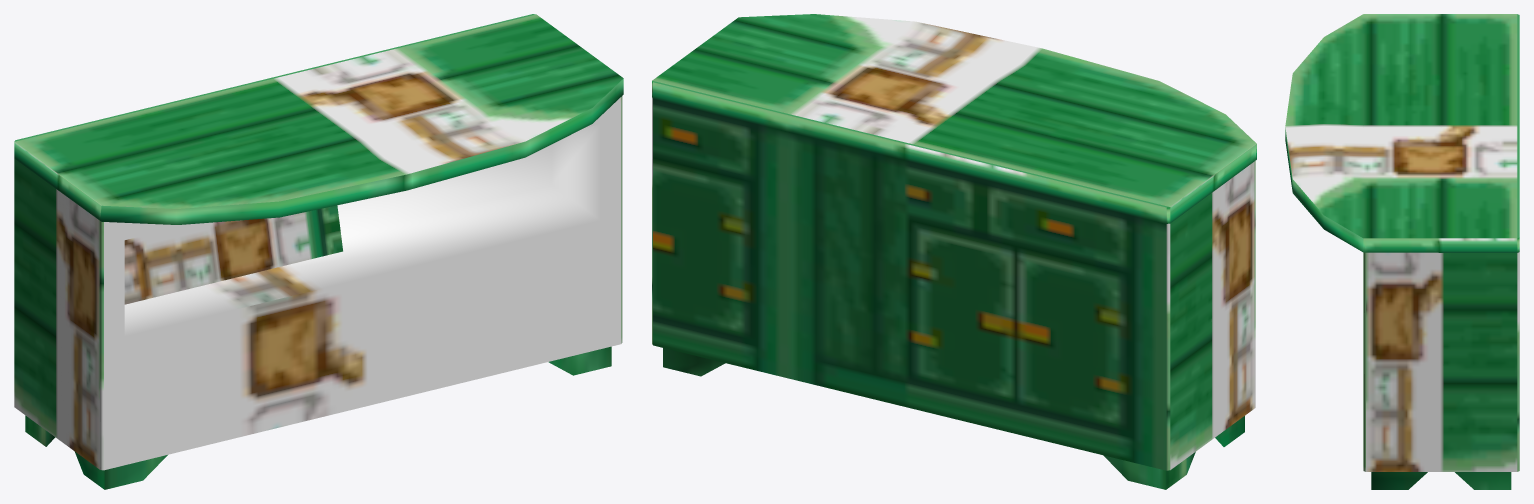
The model's file is rmk_grn_counter.dae.
3 renders of one model, left to right at view 1: azimuth 30°, elevation 25°; view 2: azimuth 150°, elevation 25°; view 3: azimuth 270°, elevation 25°, orthographic. The views are drawn at different scales.
Parts seen in each view (by area): view 1: rmk_grn_counter; view 2: rmk_grn_counter; view 3: rmk_grn_counter.
Part boxes in pixels (box(x1,y1,x2,y2)): rmk_grn_counter: box(14, 14, 623, 489); rmk_grn_counter: box(652, 14, 1256, 489); rmk_grn_counter: box(1285, 14, 1519, 489).
Bounding box in the file's own units: 54.4 × 28.8 × 24.
1 material, 1 textured.
